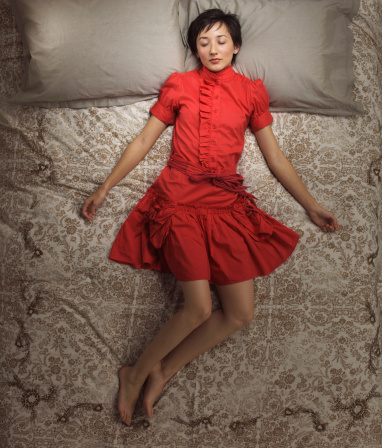deitado: (87, 0, 333, 396)
